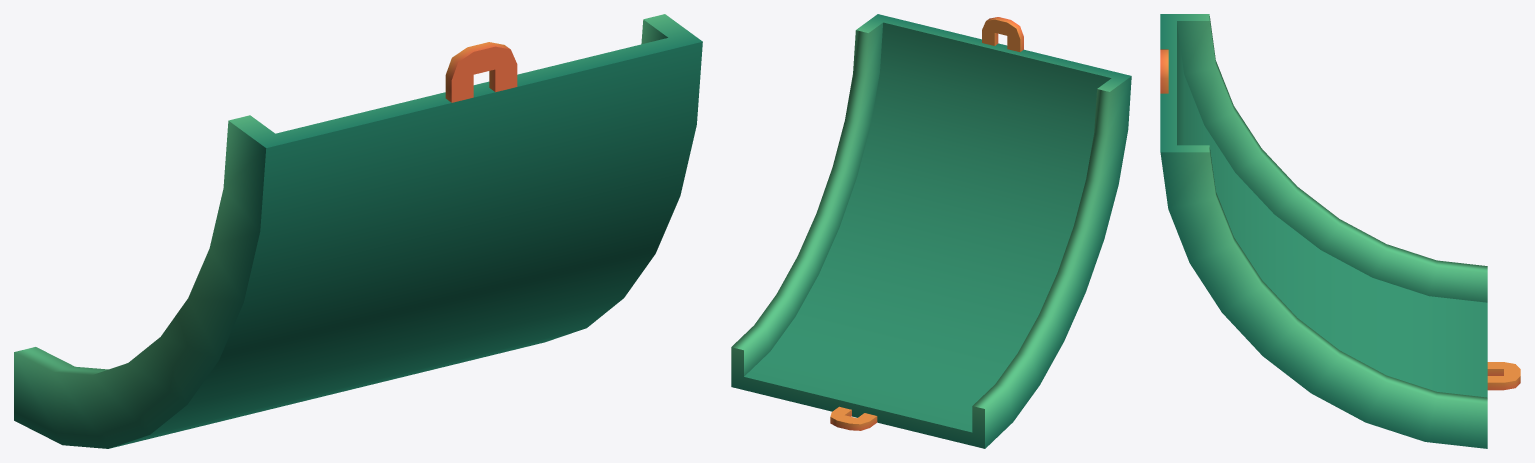
Rendered from track-wide-straight-bend.fbx.
The picture shows the model from 3 angles, left to right: view 1: azimuth 30°, elevation 25°; view 2: azimuth 150°, elevation 25°; view 3: azimuth 270°, elevation 25°; orthographic projection. The views are drawn at different scales.
Visible parts, largest first — view 1: track-wide-straight-bend; view 2: track-wide-straight-bend; view 3: track-wide-straight-bend.
Part boxes in pixels (<box>): track-wide-straight-bend: <box>14,14,702,448</box>; track-wide-straight-bend: <box>731,14,1131,448</box>; track-wide-straight-bend: <box>1160,14,1520,448</box>.
Bounding box in the file's own units: 200 × 220 × 220.
